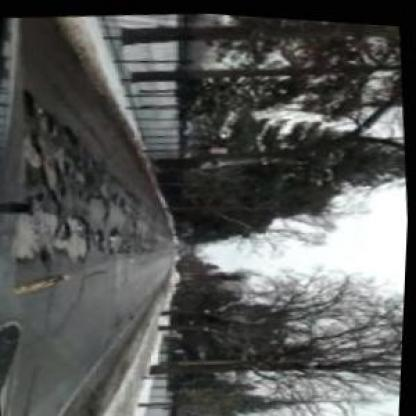pothole: (16, 89, 42, 116), (55, 162, 71, 197), (58, 124, 80, 146), (12, 198, 32, 215), (94, 228, 108, 250), (58, 221, 75, 237)
